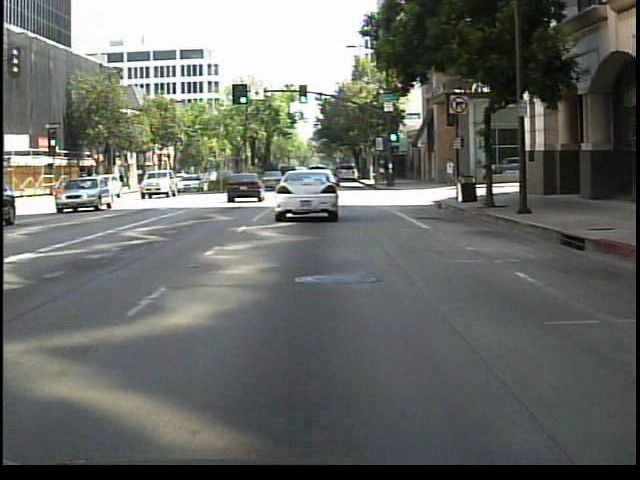person: (442, 152, 458, 191)
